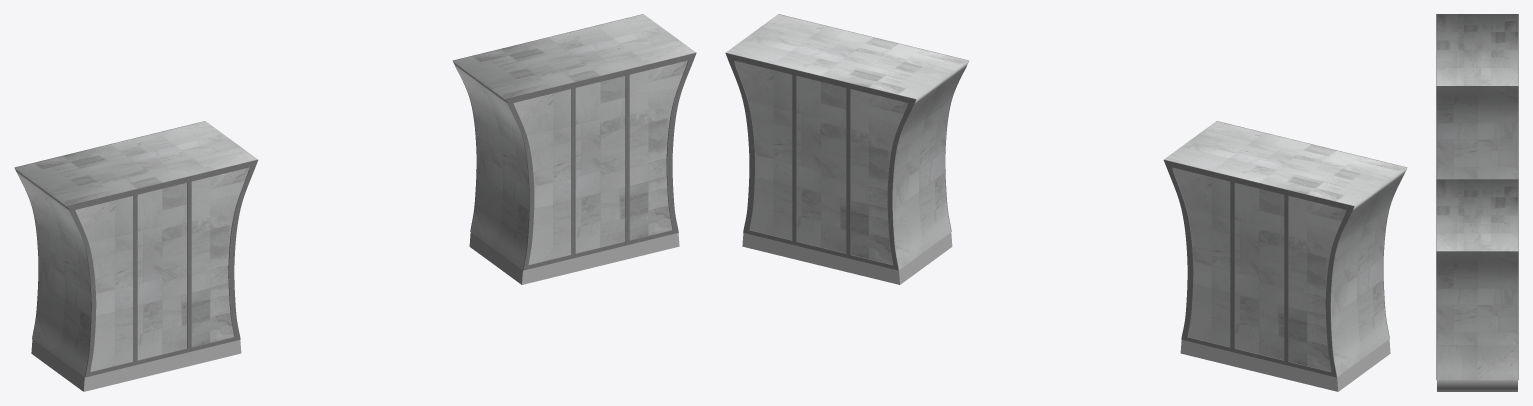
Rendered from Subway06Column01.FBX.
3 renders of one model, left to right at view 1: azimuth 30°, elevation 25°; view 2: azimuth 150°, elevation 25°; view 3: azimuth 270°, elevation 25°, orthographic. The views are drawn at different scales.
Parts seen in each view (by area): view 1: Subway06Column01a, Subway06Column01c, Subway06Column01b; view 2: Subway06Column01a, Subway06Column01c, Subway06Column01b; view 3: Subway06Column01a, Subway06Column01b, Subway06Column01c.
Part boxes in pixels (x1,y1,x2,y2): Subway06Column01a: (15, 14, 695, 376); Subway06Column01c: (14, 14, 696, 377); Subway06Column01b: (31, 232, 679, 391); Subway06Column01a: (726, 14, 1406, 376); Subway06Column01c: (725, 14, 1407, 377); Subway06Column01b: (742, 232, 1390, 391); Subway06Column01a: (1437, 14, 1517, 380); Subway06Column01b: (1437, 380, 1517, 391); Subway06Column01c: (1436, 14, 1518, 380).
Bounding box in the file's own units: 13880 × 4004 × 2030.
